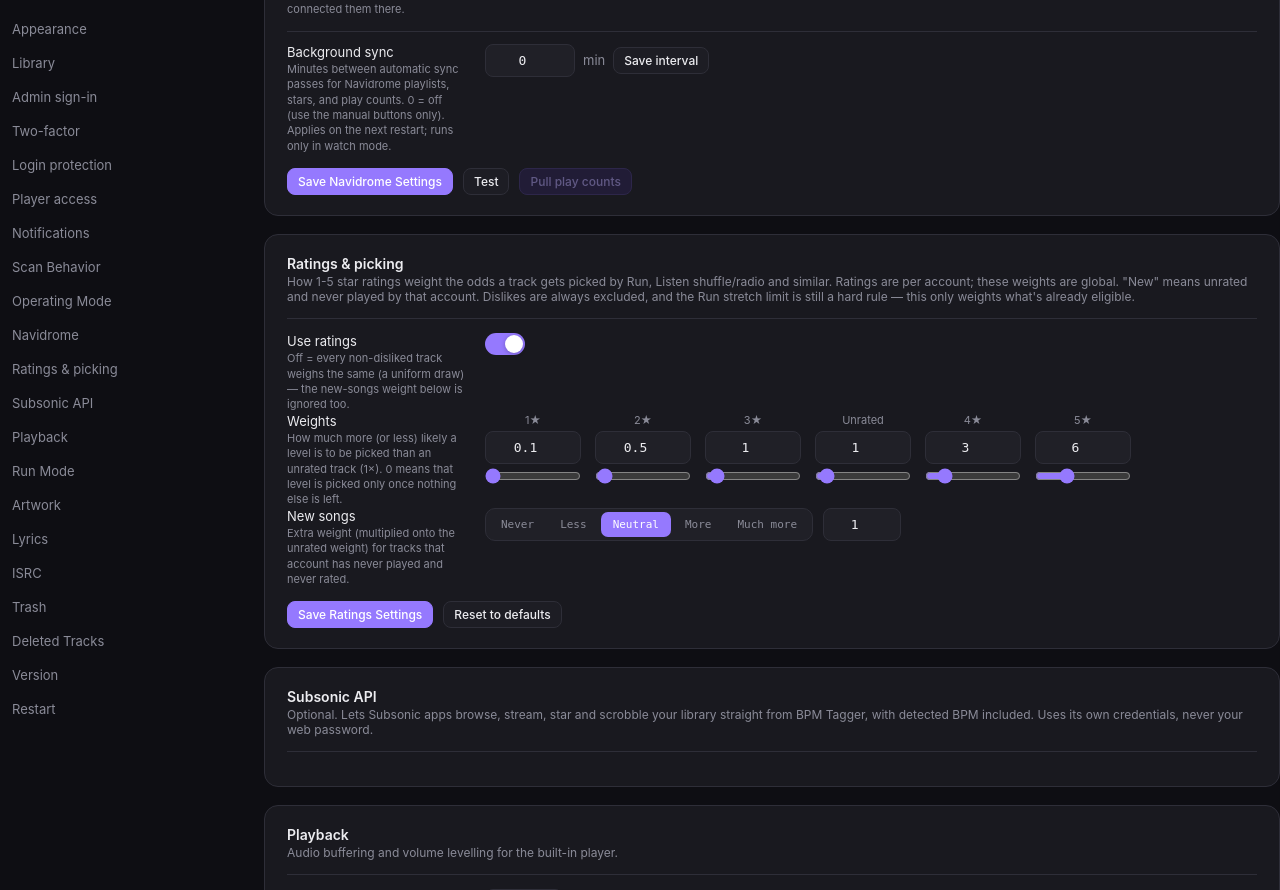
Test: Settings — Ratings & picking › Reset to defaults restores the shipped weights
(page scrolled)
Expected: the heading "Ratings & picking" is shown, 287,255 -> 404,272
Step 1. Replace the text in the number field named "5★ weight" with "8" → (1083, 447), box 1035,431 -> 1131,464
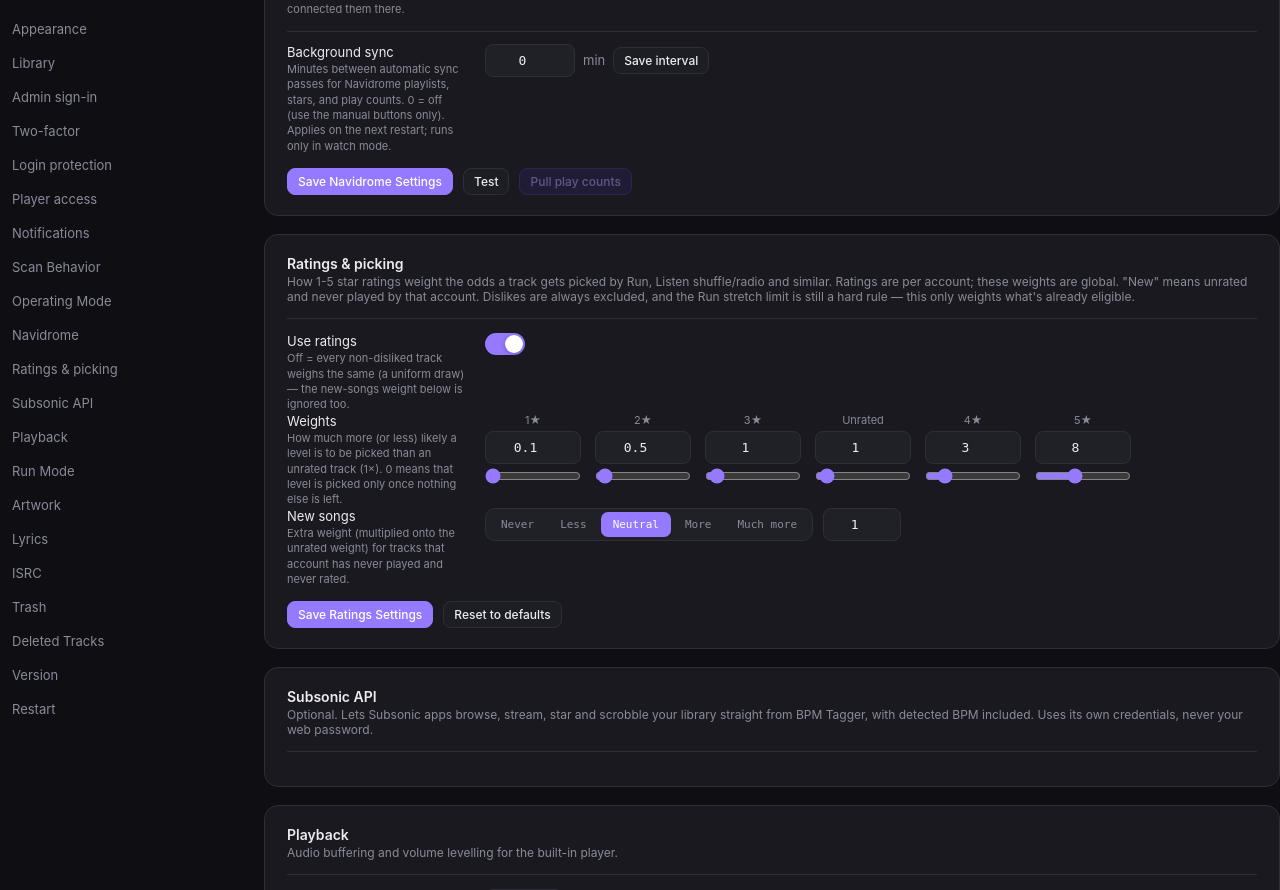
Step 2. Click the button "Reset to defaults" → (502, 615), box 443,601 -> 562,628
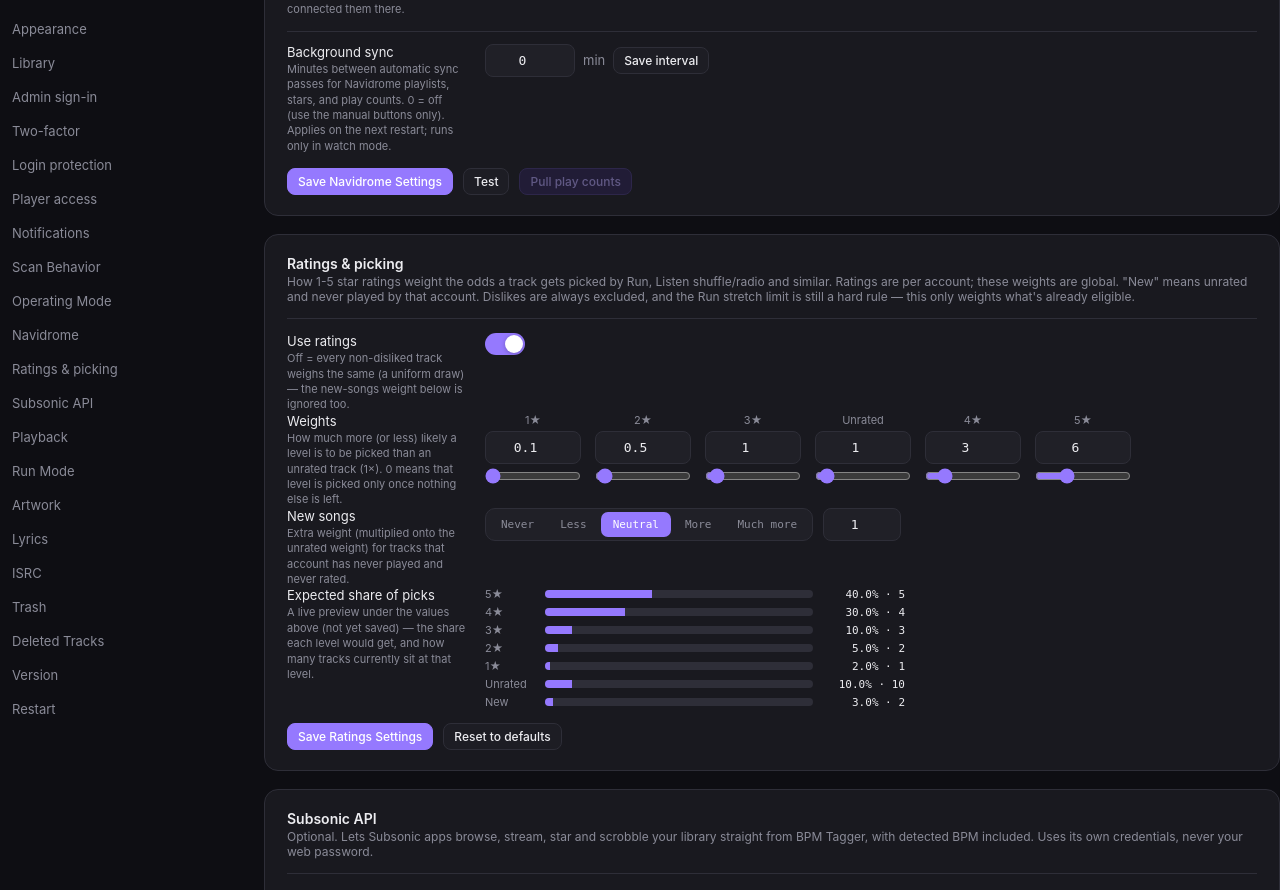
Expected: the number field named "5★ weight" holds "6", 1035,431 -> 1131,464
